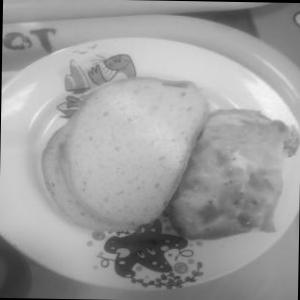bread: (39, 56, 198, 260)
cheese_sandwich: (168, 97, 294, 240)
